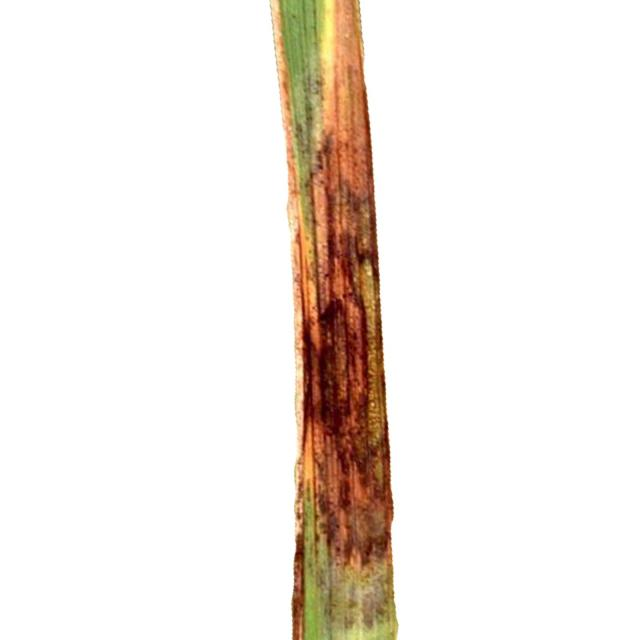Leaf scald: (156, 7, 444, 640)
